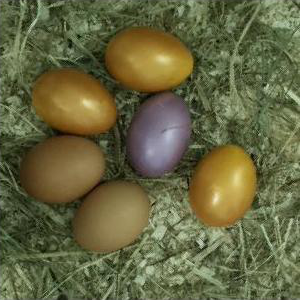egg: (70, 180, 151, 254), (32, 70, 119, 137), (188, 144, 258, 227), (19, 137, 106, 203), (106, 28, 194, 93), (125, 93, 192, 176)
